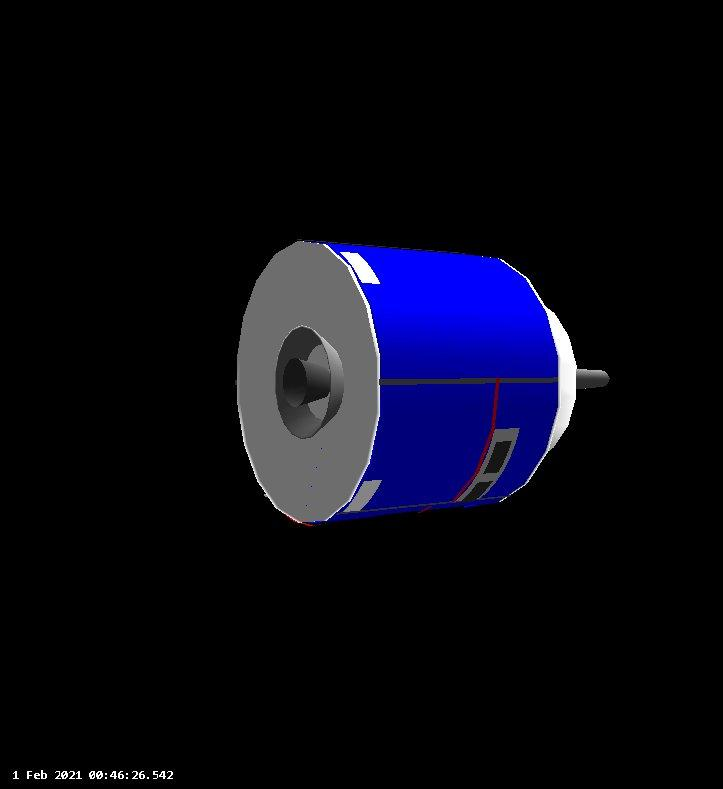antenna: (568, 367, 616, 392)
body: (230, 239, 579, 527)
solar: (299, 240, 561, 527)
thruster: (280, 356, 334, 410)
